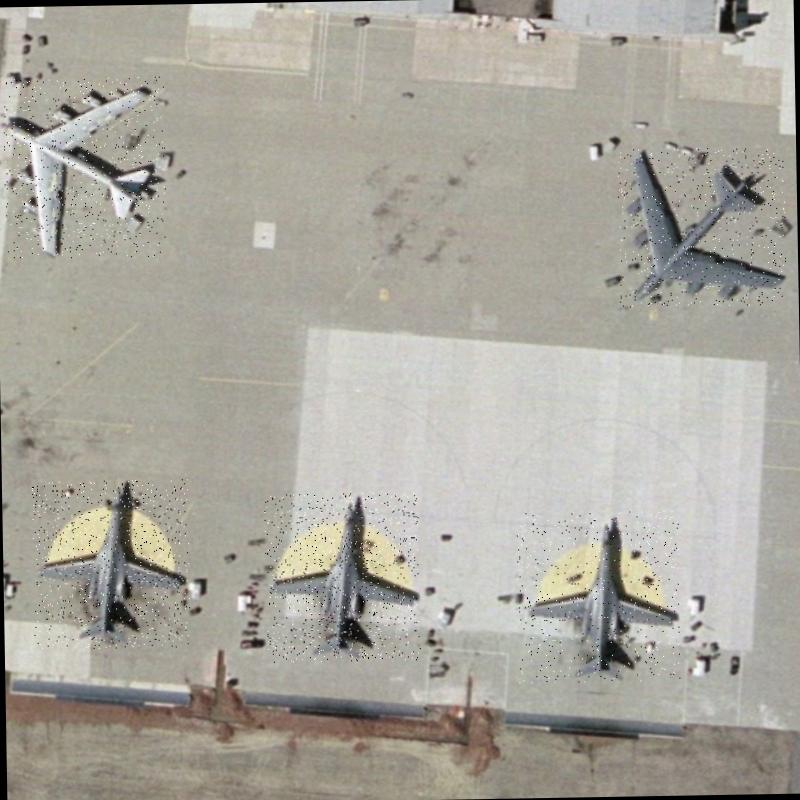A10: (515, 510, 681, 683), (32, 478, 191, 649), (264, 491, 420, 662)
A8: (3, 76, 166, 259), (616, 146, 786, 307)
